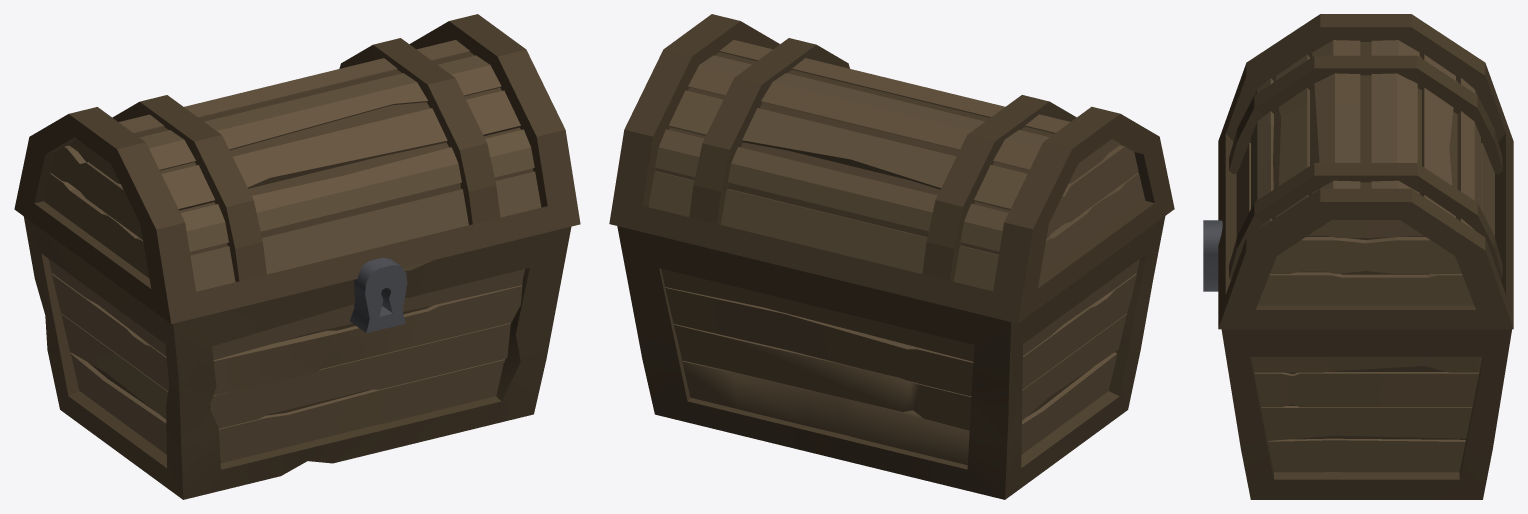
File: Chest_Gold.glb
3 renders of one model, left to right at view 1: azimuth 30°, elevation 25°; view 2: azimuth 150°, elevation 25°; view 3: azimuth 270°, elevation 25°, orthographic. The views are drawn at different scales.
Visible parts, largest first — view 1: Wood, DarkWood, Metal; view 2: Wood, DarkWood; view 3: DarkWood, Wood, Metal.
Part boxes in pixels (box(x1,y1,x2,y2)): Wood: box(43, 40, 541, 462); DarkWood: box(14, 14, 580, 499); Metal: box(350, 257, 407, 333); Wood: box(648, 40, 1145, 465); DarkWood: box(609, 14, 1174, 499); DarkWood: box(1218, 14, 1513, 499); Wood: box(1236, 40, 1494, 472); Metal: box(1203, 220, 1222, 291).
Size of the model in its own units: 1.18 by 0.9107 by 0.8223.
